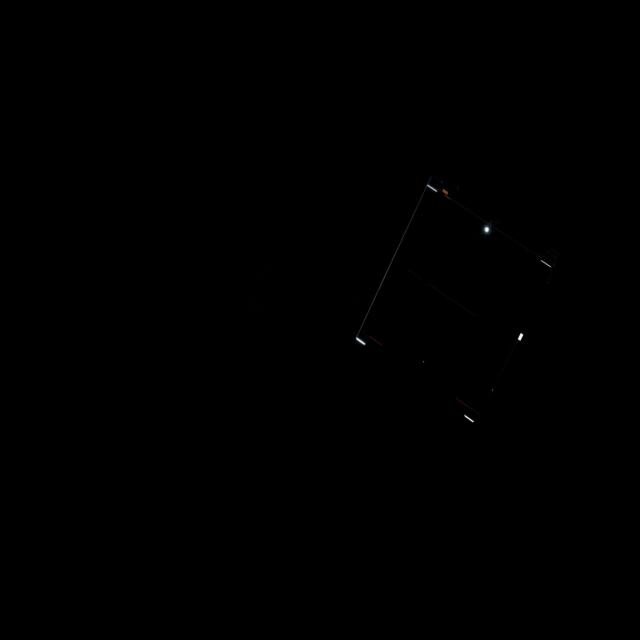medium_debris: (357, 175, 570, 448)
